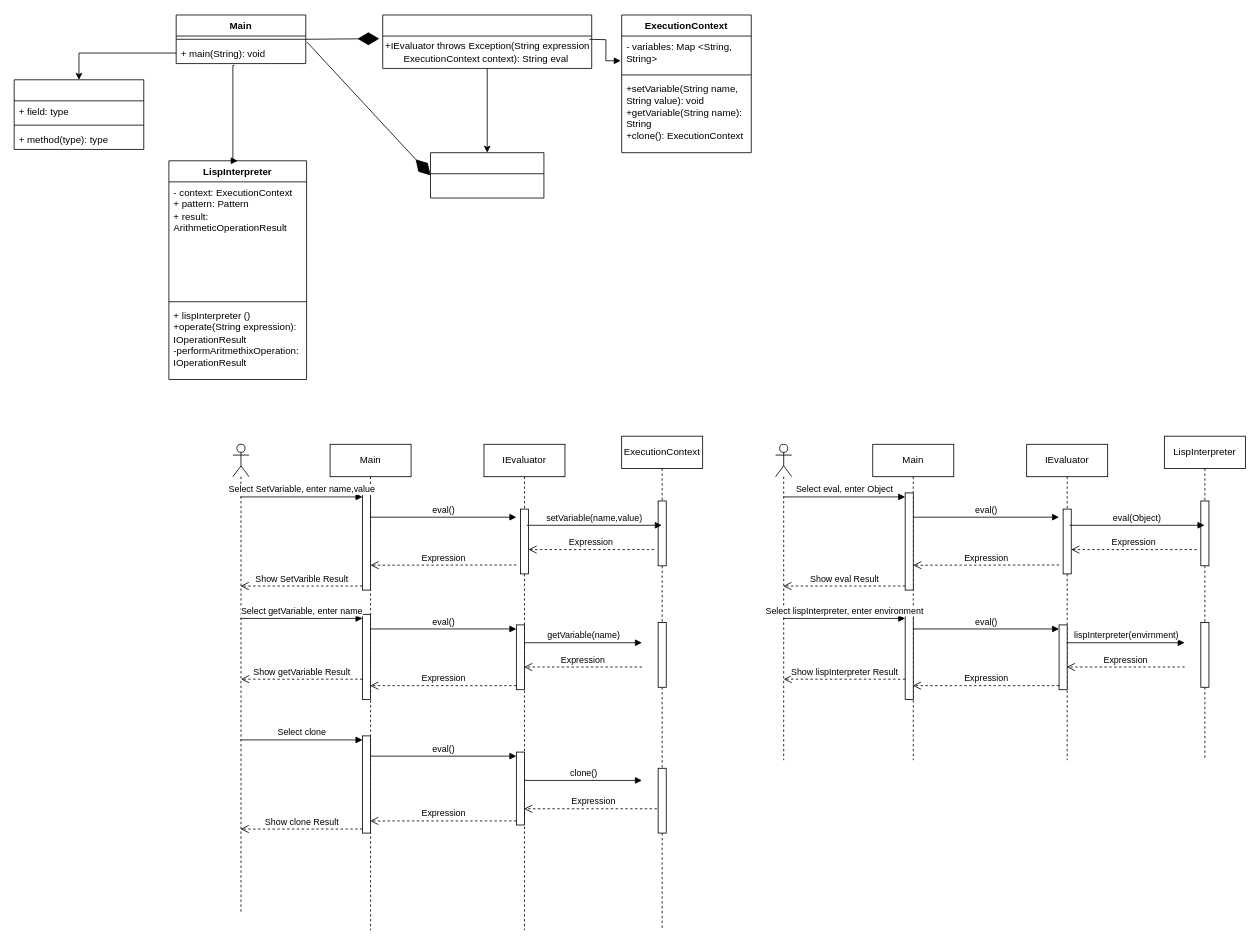
Image size: 1260x944. Some labels were removed from this diagram. The shapes that lost their labels are listed below. From the top down, each one's box as (x1, y1, x2, y2) in pixels, then its label:
(382, 14, 592, 68): <<Interphase>> IEvaluator
(13, 79, 144, 149): AritmethicOperation
(430, 152, 544, 198): <<Interphase>> IGraphicEvaluator
